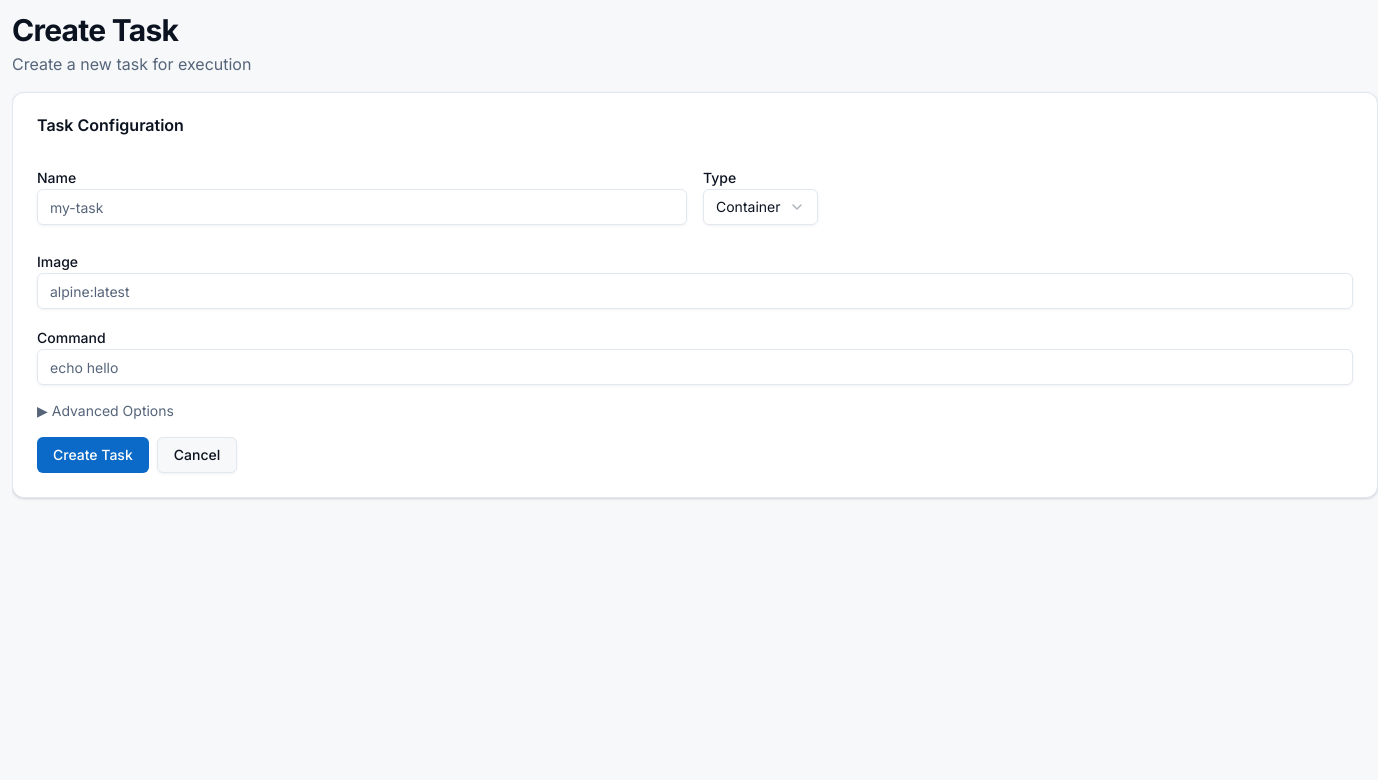
Test: TaskCreateForm › toggles advanced options visibility
expect the text "Priority" is not shown: met
expect the text "Timeout" is not shown: met
Click the button "▶ Advanced Options": x=105, y=411 [37,401,174,421]
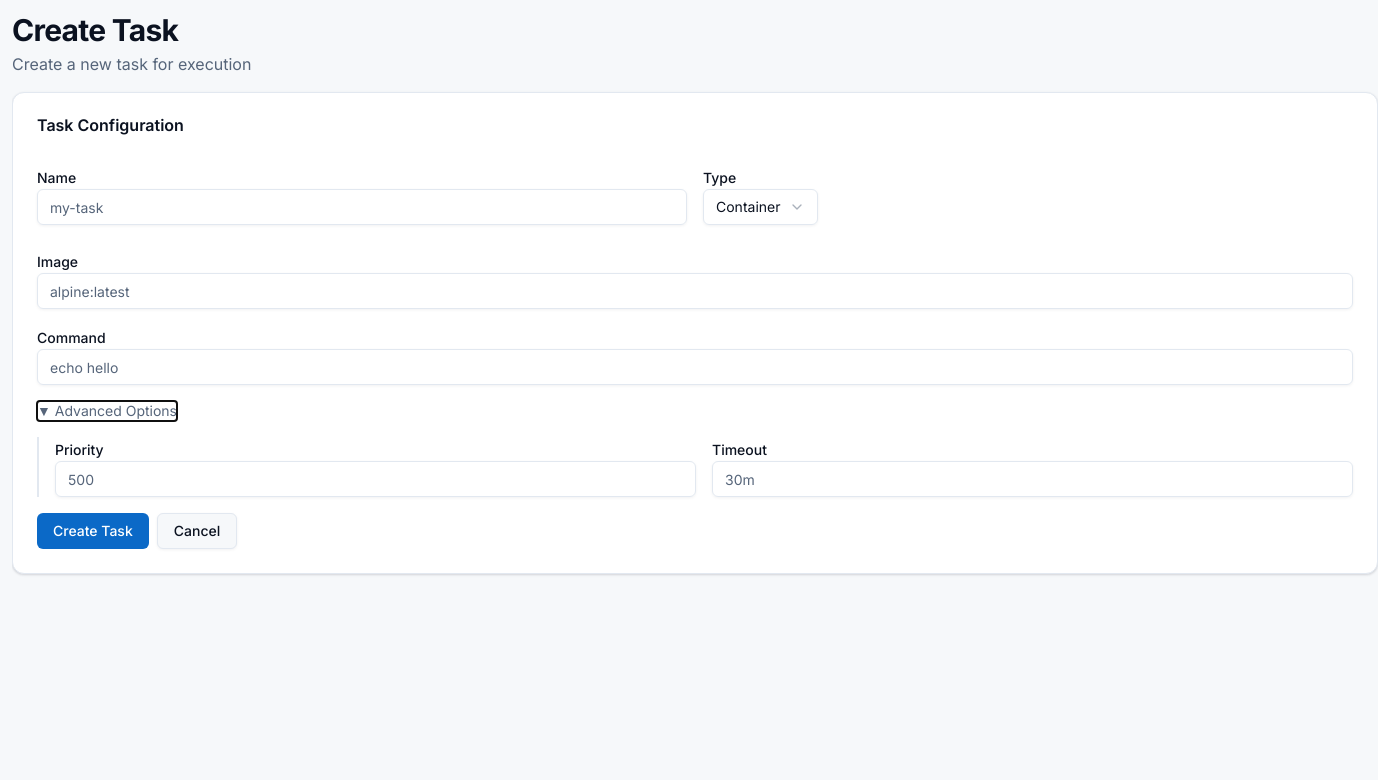
expect the text "Priority" is shown: met, box [55,441,104,458]
expect the text "Timeout" is shown: met, box [712,441,767,458]
expect the number field with placeholder "500" is shown: met, box [55,461,696,497]
